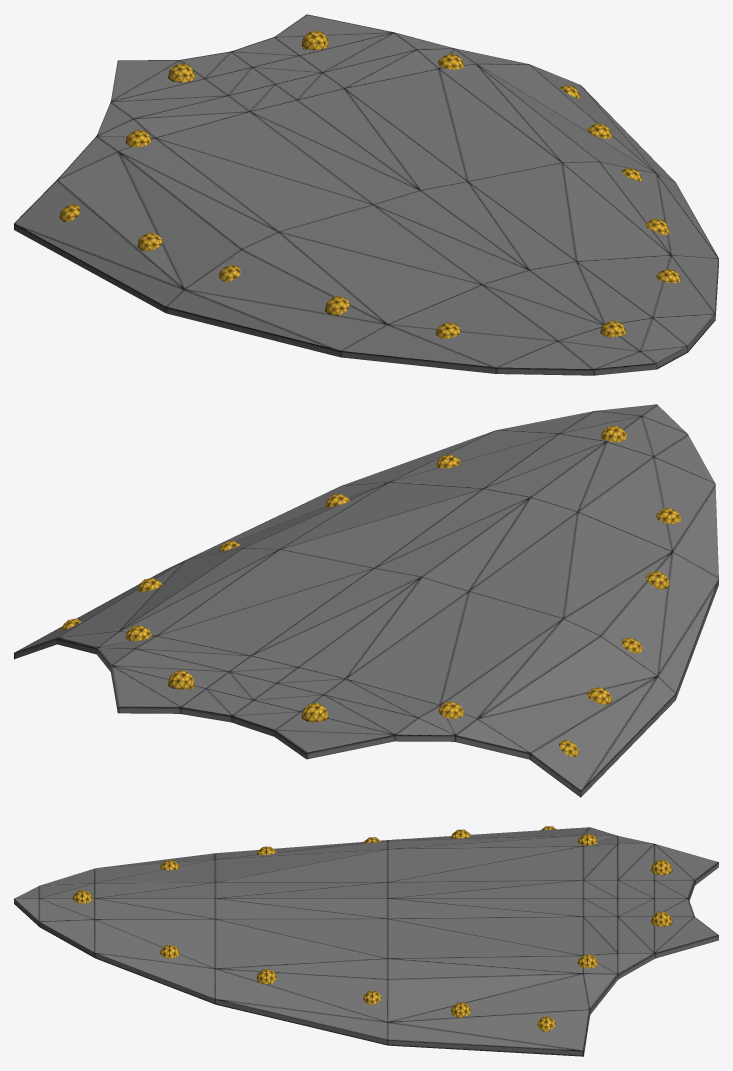
The model's file is kshield.dae.
3 renders of one model, top to bottom at view 1: azimuth 30°, elevation 25°; view 2: azimuth 150°, elevation 25°; view 3: azimuth 270°, elevation 25°, orthographic. The views are drawn at different scales.
Visible parts, largest first — view 1: Cube; view 2: Cube; view 3: Cube.
Boxes of the visible parts, x1,y1,x2,y2 form: Cube: [14, 14, 718, 375]; Cube: [14, 404, 718, 797]; Cube: [14, 826, 718, 1056].
Bounding box in the file's own units: 0.5898 × 0.8017 × 0.0764.
Materials: 1 (1 with a texture image).
